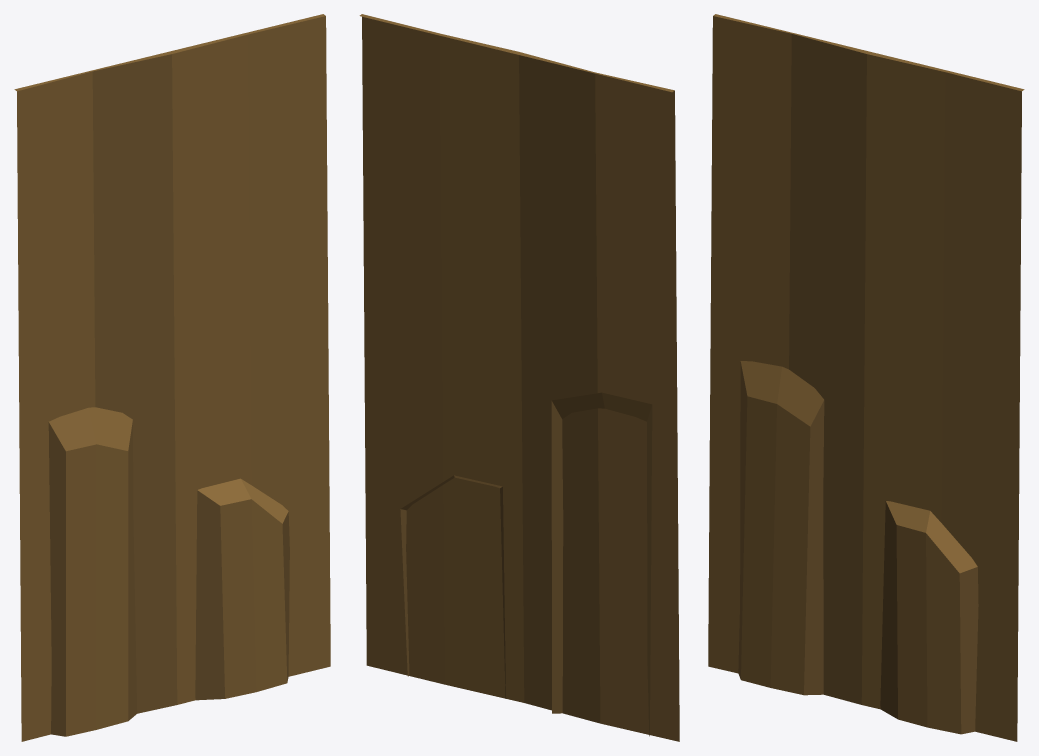
File: SD_Env_Cave_Wall_02.fbx
The picture shows the model from 3 angles, left to right: view 1: azimuth 30°, elevation 25°; view 2: azimuth 150°, elevation 25°; view 3: azimuth 330°, elevation 25°; orthographic projection.
Visible parts, largest first — view 1: SD_Env_Cave_Wall_02; view 2: SD_Env_Cave_Wall_02; view 3: SD_Env_Cave_Wall_02.
Boxes of the visible parts, bbox=[...] form: SD_Env_Cave_Wall_02: bbox=[14, 14, 330, 741]; SD_Env_Cave_Wall_02: bbox=[359, 14, 679, 741]; SD_Env_Cave_Wall_02: bbox=[708, 14, 1024, 741].
Bounding box in the file's own units: 10 × 20 × 0.8482.
